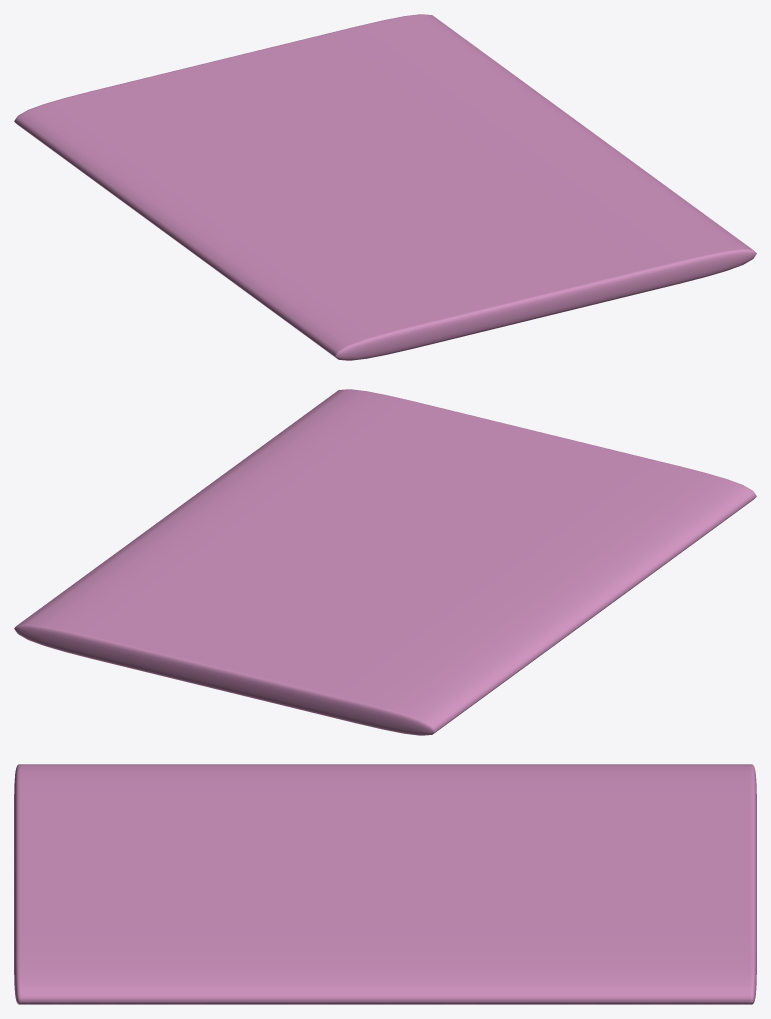
File: CapePieceStraight.fbx
3 renders of one model, top to bottom at view 1: azimuth 30°, elevation 25°; view 2: azimuth 150°, elevation 25°; view 3: azimuth 270°, elevation 25°, orthographic. The views are drawn at different scales.
Parts seen in each view (by area): view 1: CapePieceStraight; view 2: CapePieceStraight; view 3: CapePieceStraight.
Boxes of the visible parts, box(x1,y1,x2,y2) form: CapePieceStraight: box(14, 14, 756, 360); CapePieceStraight: box(14, 389, 756, 735); CapePieceStraight: box(14, 764, 756, 1004).
Bounding box in the file's own units: 0.7774 × 0.0387 × 1.04.
